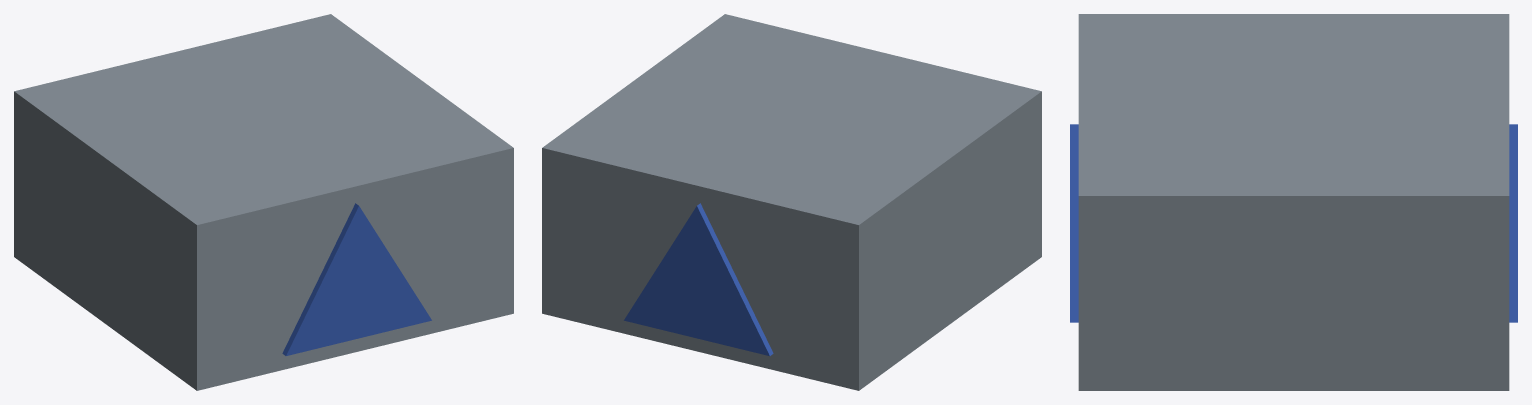
The model's file is Part Studio 1 - Part 7.dae.
The picture shows the model from 3 angles, left to right: view 1: azimuth 30°, elevation 25°; view 2: azimuth 150°, elevation 25°; view 3: azimuth 270°, elevation 25°; orthographic projection. The views are drawn at different scales.
Parts seen in each view (by area): view 1: ID2; view 2: ID2; view 3: ID2.
Part boxes in pixels (left/top/right/bottom): ID2: left=14, top=14, right=513, bottom=390; ID2: left=542, top=14, right=1041, bottom=390; ID2: left=1070, top=14, right=1517, bottom=390.
Size of the model in its own units: 0.1 by 0.104 by 0.05.
